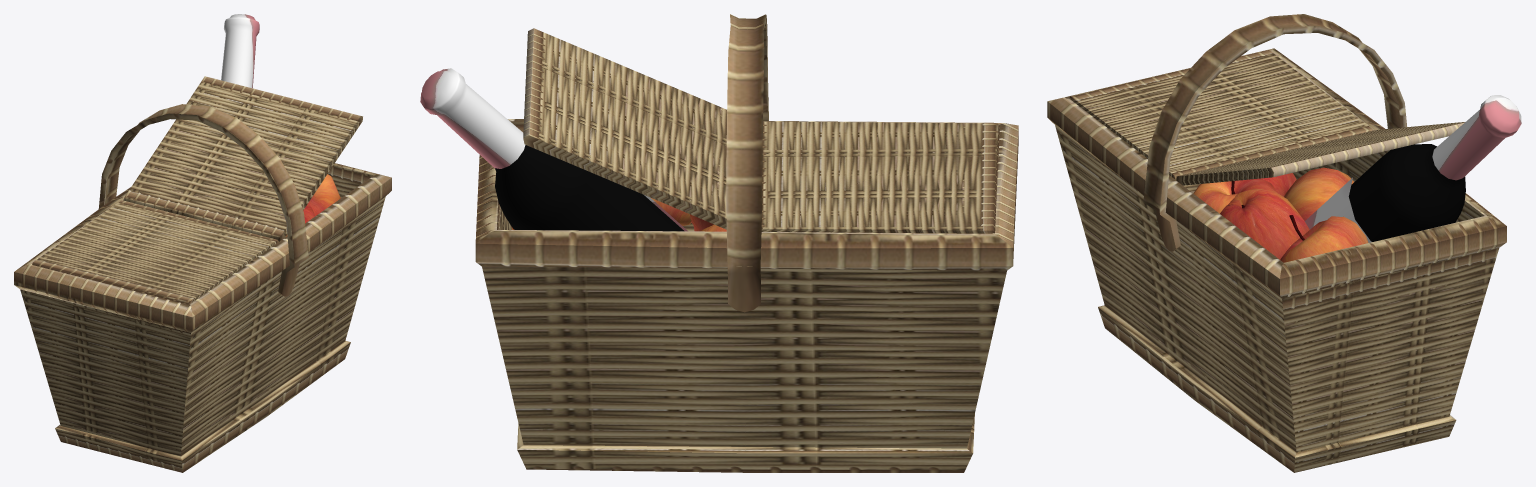
Rendered from basket02.glb.
3 renders of one model, left to right at view 1: azimuth 30°, elevation 25°; view 2: azimuth 150°, elevation 25°; view 3: azimuth 270°, elevation 25°, orthographic. The views are drawn at different scales.
Parts seen in each view (by area): view 1: polySurface2; view 2: polySurface2; view 3: polySurface2.
Boxes of the visible parts, x1,y1,x2,y2 form: polySurface2: (14,14,391,472); polySurface2: (420,14,1018,472); polySurface2: (1047,14,1521,472).
Size of the model in its own units: 11.37 by 8.3 by 9.87.
5 materials, 4 textured.
